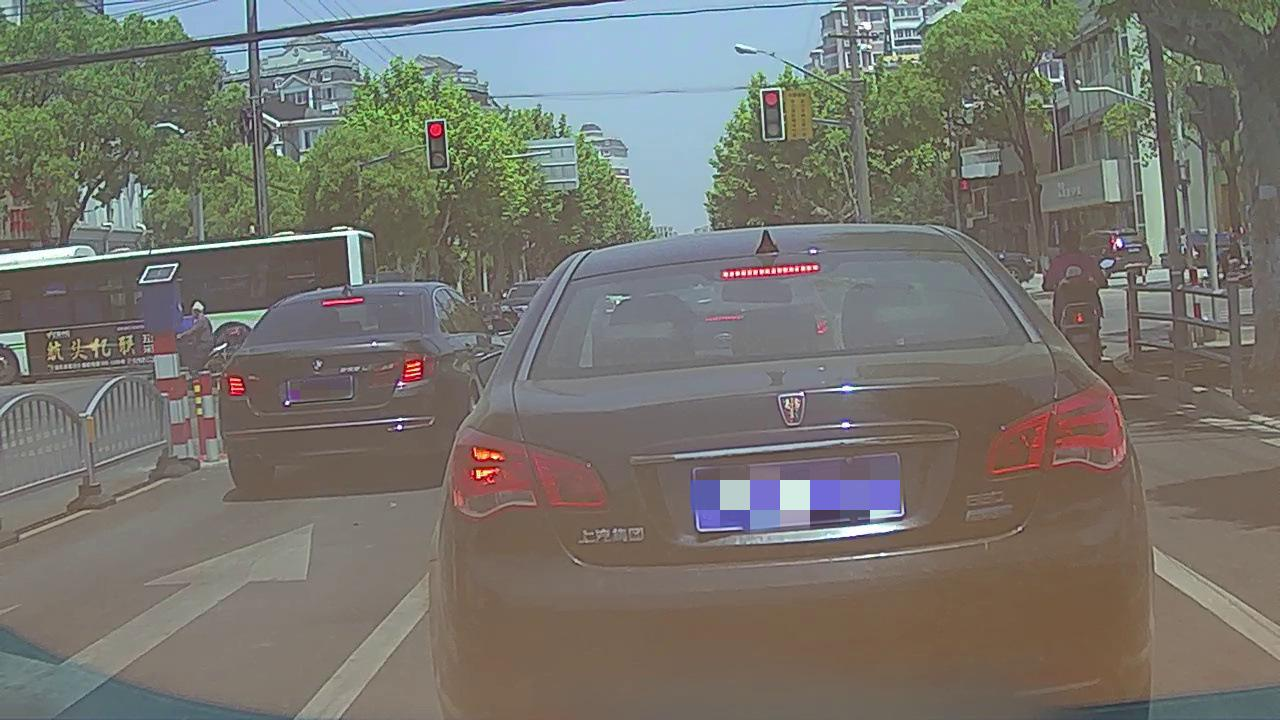traffic_light: (426, 120, 446, 169), (763, 91, 782, 139)
